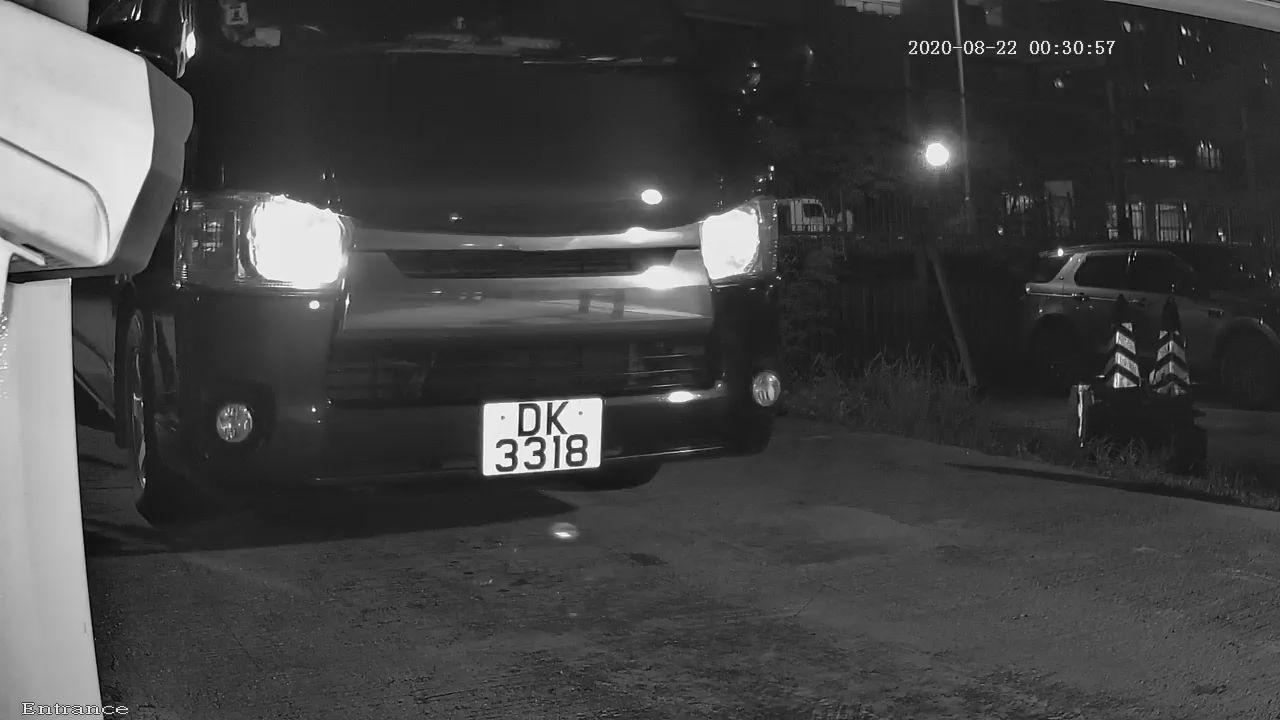License Plate: (469, 393, 612, 483)
